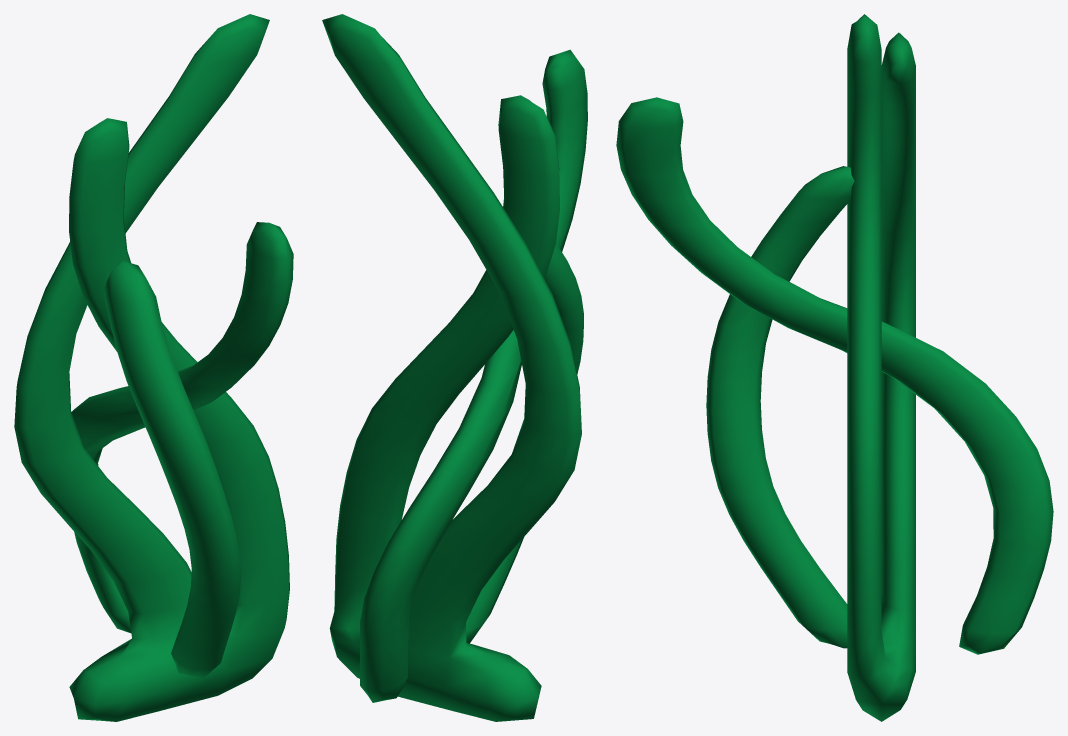
File: seaweed.fbx
3 views of the same model, side by side, from view 1: azimuth 30°, elevation 25°; view 2: azimuth 150°, elevation 25°; view 3: azimuth 270°, elevation 25° (orthographic). The views are drawn at different scales.
Parts seen in each view (by area): view 1: seaweed_mesh; view 2: seaweed_mesh; view 3: seaweed_mesh.
Part boxes in pixels (left/top/right/bottom): seaweed_mesh: left=14, top=14, right=293, bottom=721; seaweed_mesh: left=322, top=14, right=587, bottom=721; seaweed_mesh: left=616, top=14, right=1053, bottom=721.
Size of the model in its own units: 4.54 by 11.1 by 6.37.
